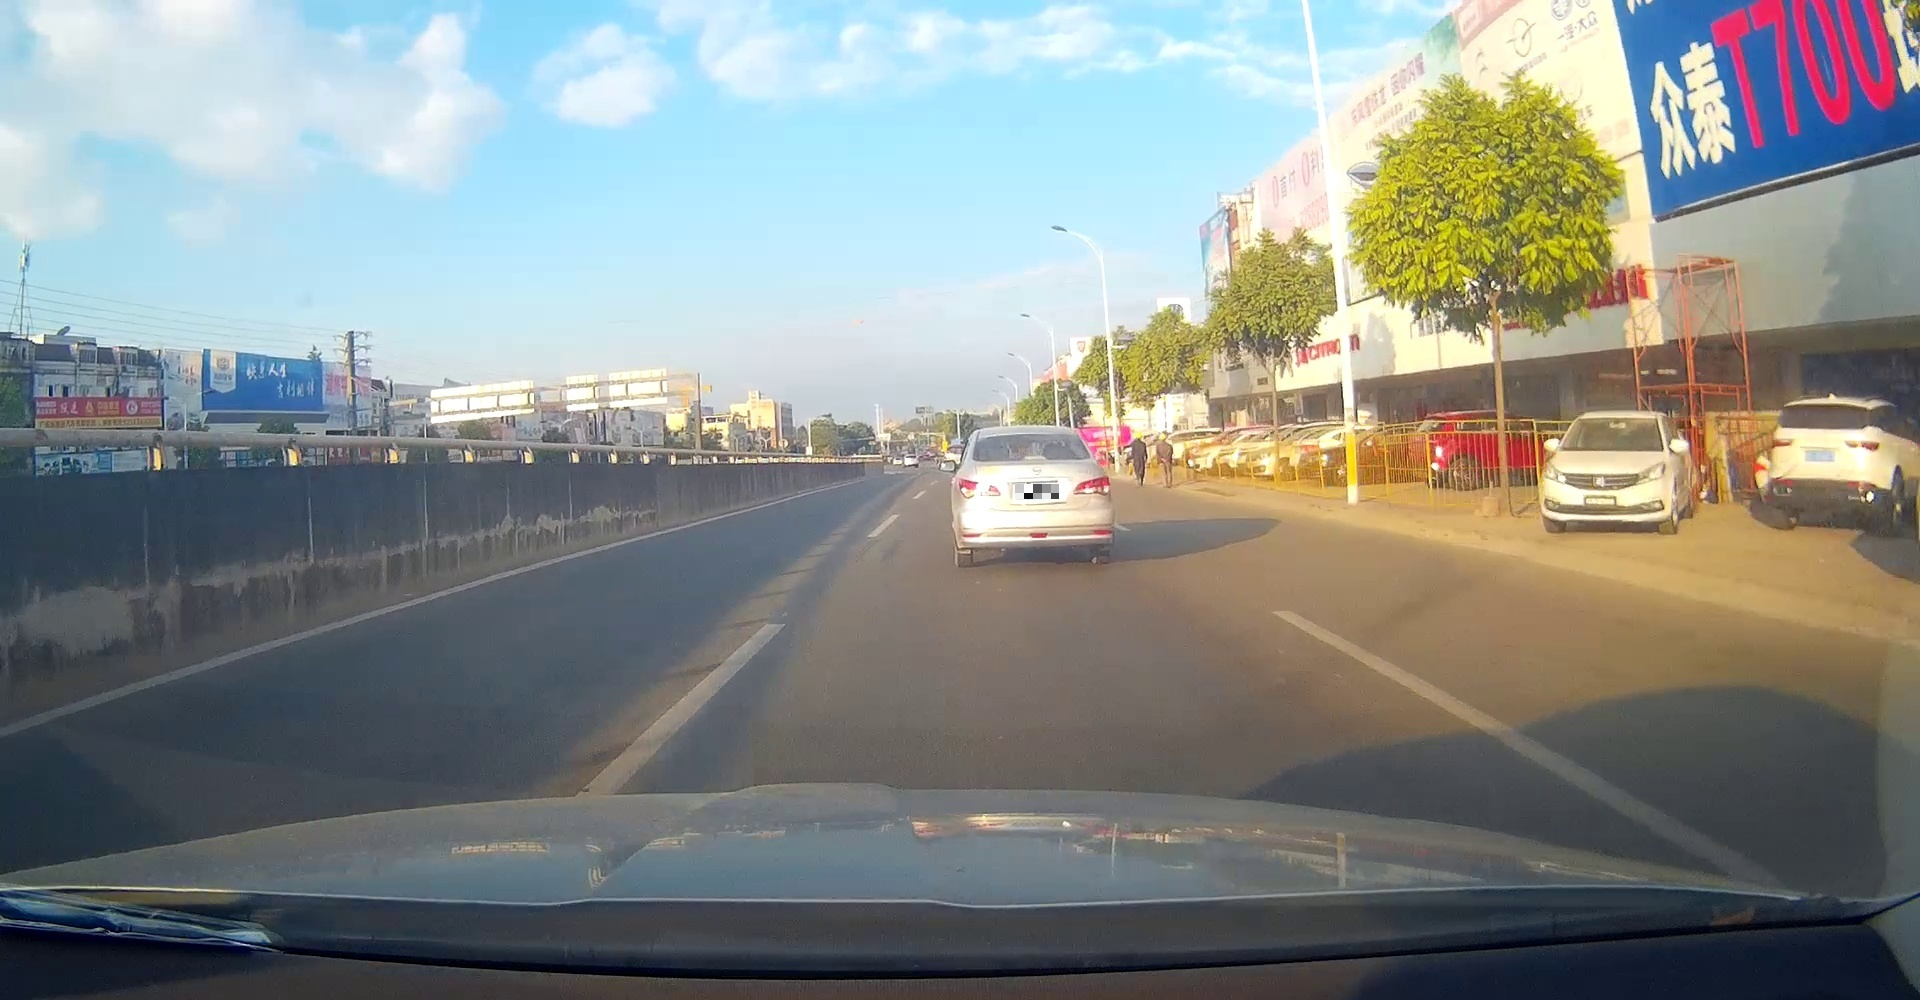L_light: (957, 478, 1001, 499), (1769, 439, 1792, 448)
R_light: (1073, 475, 1110, 496), (1845, 440, 1879, 452)
T_light: (1023, 456, 1048, 461), (1818, 404, 1837, 409)
day-no: (956, 425, 1112, 567), (1768, 397, 1879, 530)
plate_1: (1015, 484, 1059, 499)
